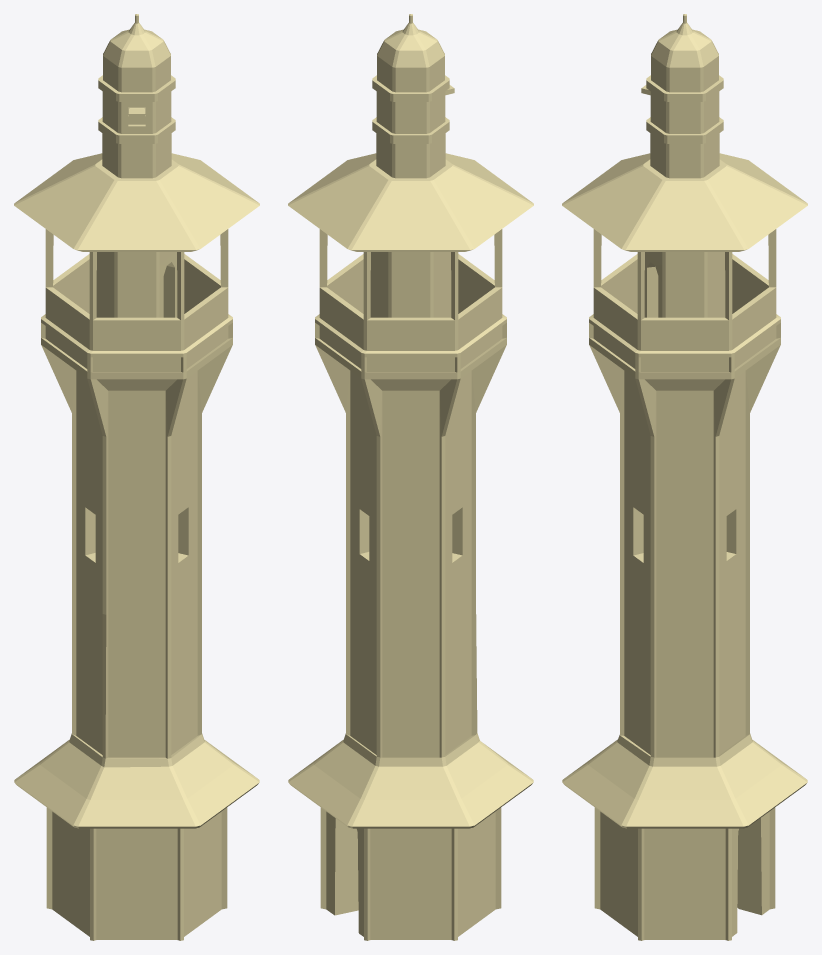
The model's file is relic_minaret.obj.
3 renders of one model, left to right at view 1: azimuth 30°, elevation 25°; view 2: azimuth 150°, elevation 25°; view 3: azimuth 270°, elevation 25°, orthographic.
Parts seen in each view (by area): view 1: Minaret_Mesh; view 2: Minaret_Mesh; view 3: Minaret_Mesh.
Boxes of the visible parts, x1,y1,x2,y2 form: Minaret_Mesh: [14, 14, 259, 940]; Minaret_Mesh: [288, 14, 533, 940]; Minaret_Mesh: [562, 14, 807, 940].
Size of the model in its own units: 408 by 1868 by 465.
